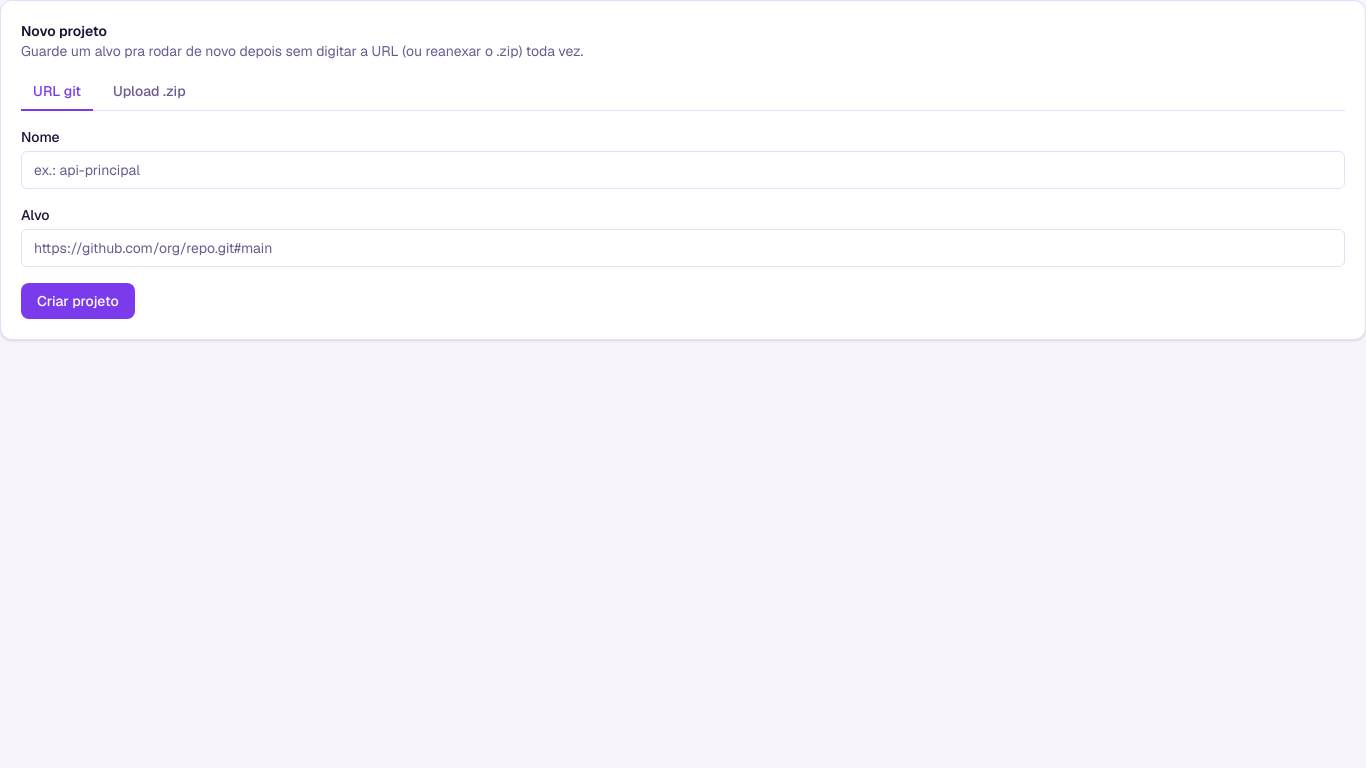
Test: NewProjectForm › aba git: envia name/target como JSON, não multipart
The width and height of the screenshot is (1366, 768).
In the field labelled "Nome": coordinates (683, 170) [21,151,1345,189], type "projeto-git"
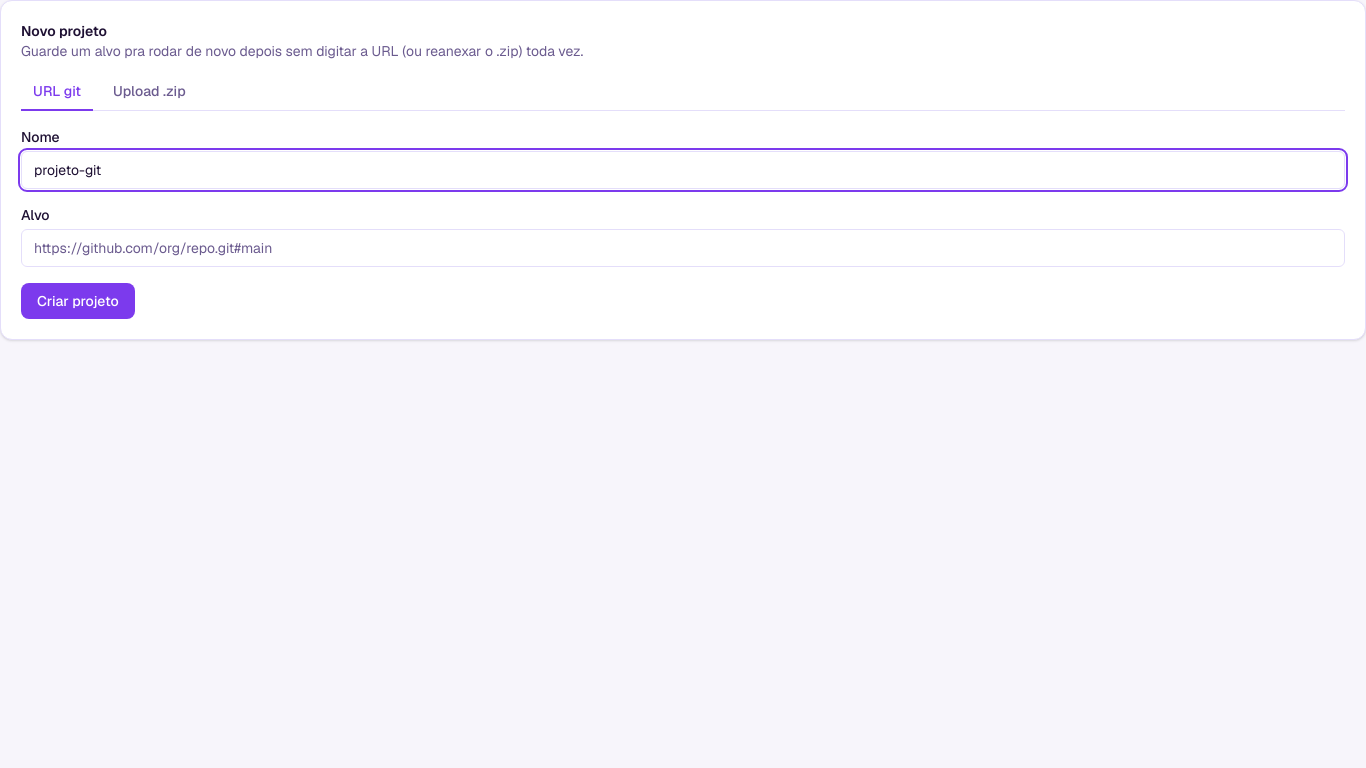
In the field labelled "Alvo": coordinates (683, 248) [21,229,1345,267], type "https://github.com/org/repo.git"
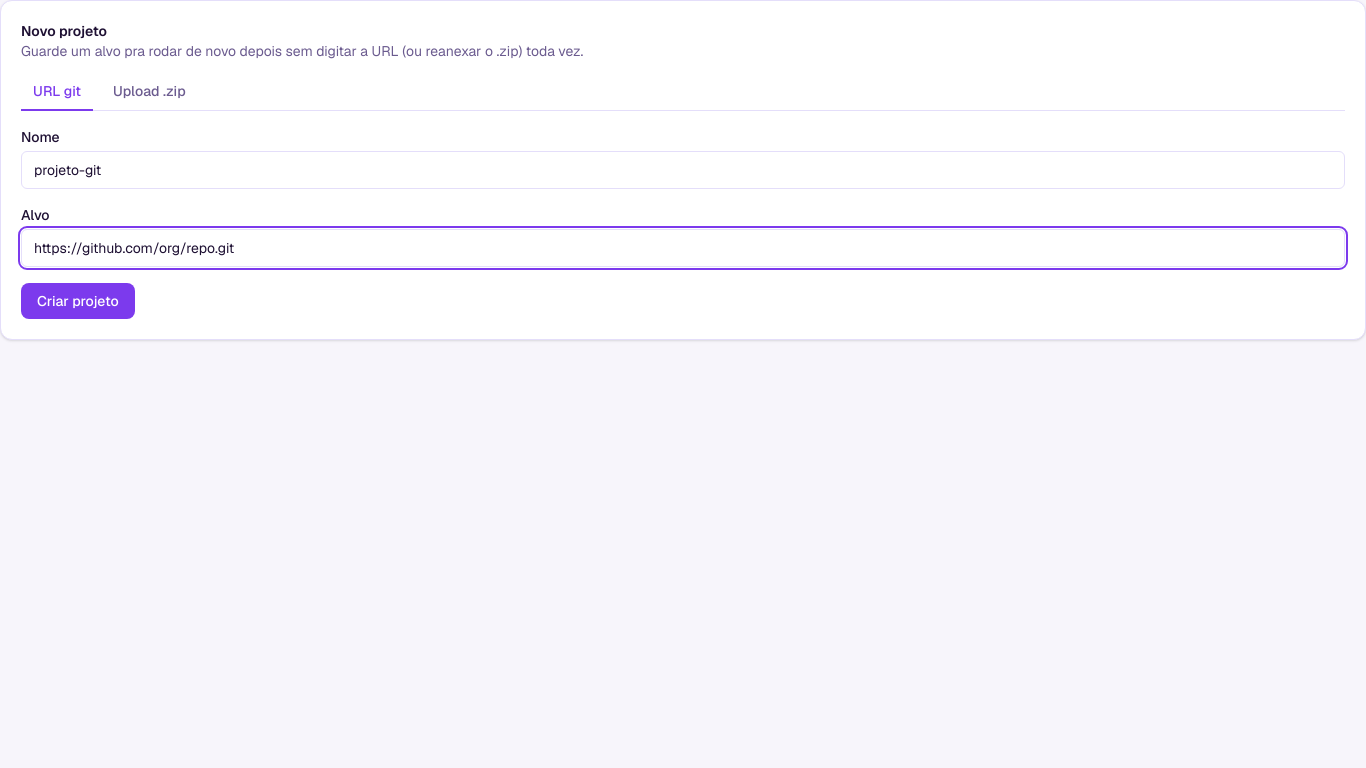
Click the button "Criar projeto": coordinates (78, 301) [21,283,135,319]
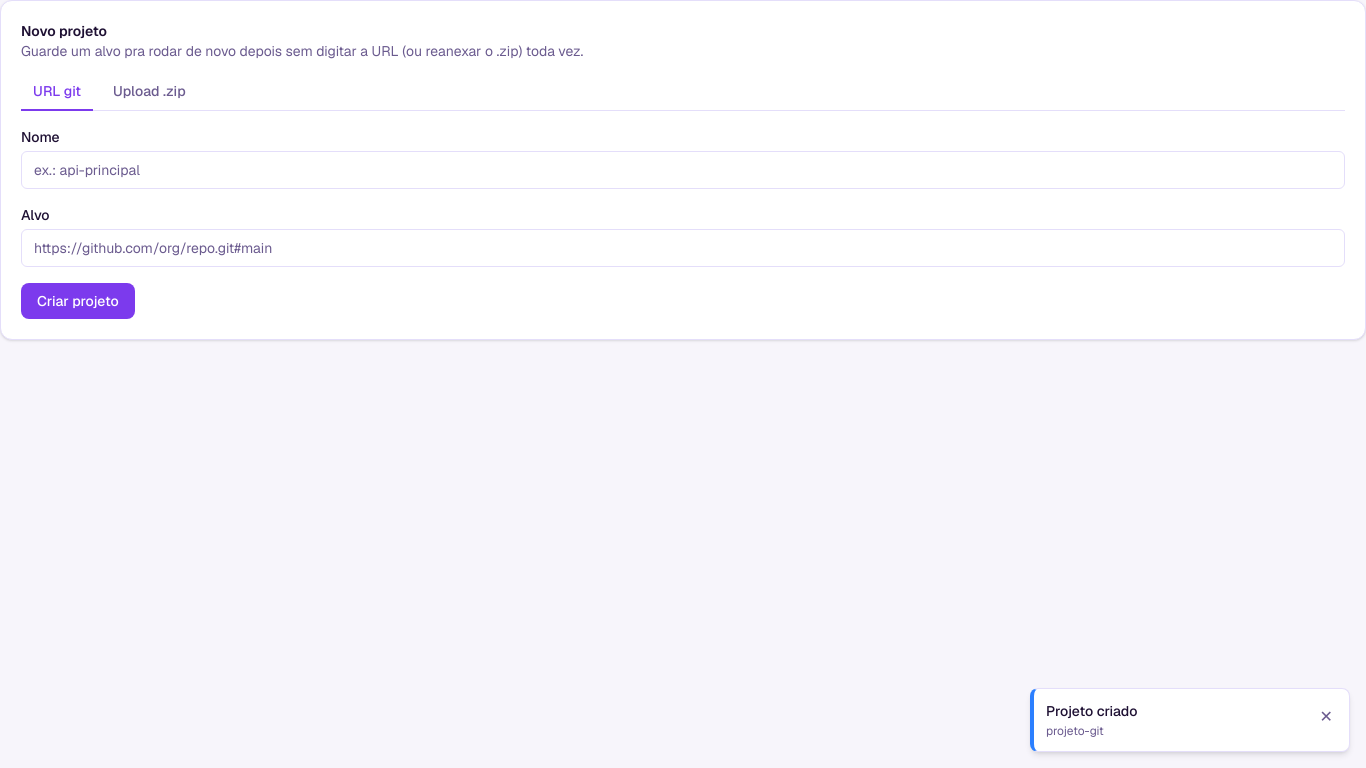
Expected: the text "Projeto criado" is shown, [1046,701,1137,721]
